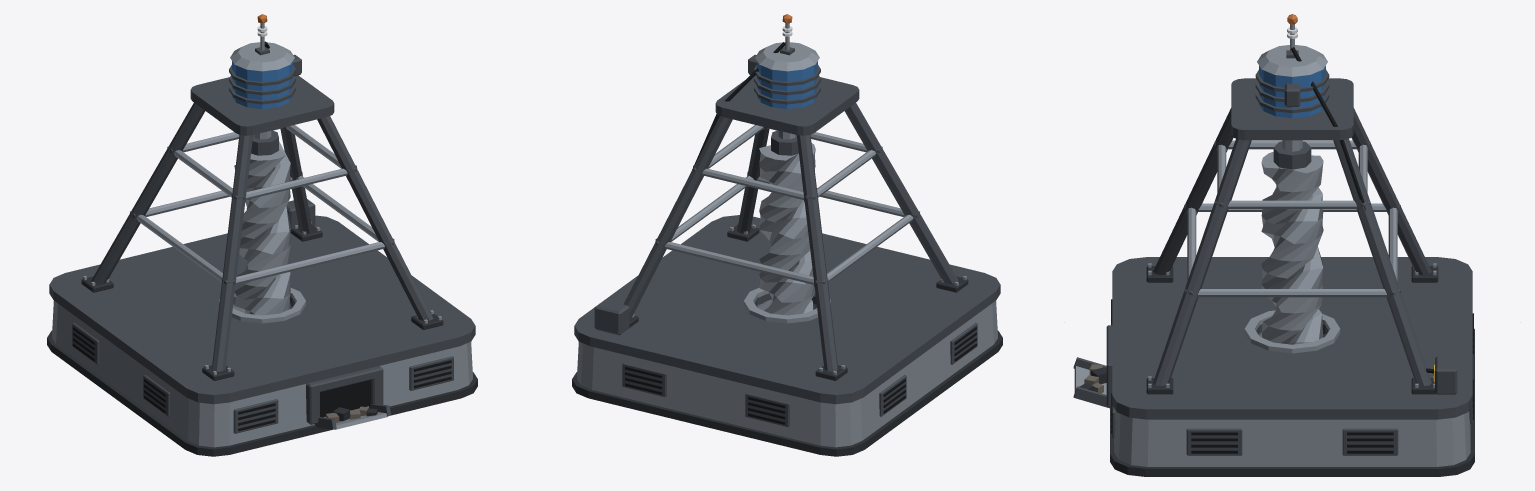
The model's file is foreuse_electrique_t2.glb.
3 renders of one model, left to right at view 1: azimuth 30°, elevation 25°; view 2: azimuth 150°, elevation 25°; view 3: azimuth 270°, elevation 25°, orthographic. The views are drawn at different scales.
Visible parts, largest first — view 1: socle_dessus.004, pieces_acier_sombre.008, socle.004, foret_corps.006, pieces_acier.008, plateau.004, socle_plinthe.002, pieces_noir.008, moteur.004, pieces_fonte.007, moteur_chapeau.002, sortie_bouche.006 (+1 smaller); view 2: socle_dessus.004, socle.004, pieces_acier_sombre.008, foret_corps.006, pieces_acier.008, socle_plinthe.002, plateau.004, pieces_noir.008, moteur.004, moteur_chapeau.002, boitier.002, pieces_fonte.007 (+1 smaller); view 3: socle_dessus.004, pieces_acier_sombre.008, socle.004, foret_corps.006, pieces_acier.008, plateau.004, socle_plinthe.002, pieces_noir.008, moteur.004, moteur_chapeau.002, pieces_fonte.007, trou_bord.004 (+2 smaller).
Part boxes in pixels (box(x1,y1,x2,y2)): socle_dessus.004: box(49, 215, 475, 404); pieces_acier_sombre.008: box(72, 47, 453, 433); socle.004: box(52, 301, 472, 447); foret_corps.006: box(234, 141, 290, 315); pieces_acier.008: box(83, 23, 441, 429); plateau.004: box(190, 75, 334, 135); socle_plinthe.002: box(47, 330, 477, 456); pieces_noir.008: box(73, 41, 451, 430); moteur.004: box(232, 61, 292, 108); pieces_fonte.007: box(81, 224, 443, 421); moteur_chapeau.002: box(230, 42, 294, 71); sortie_bouche.006: box(320, 380, 370, 417); socle_dessus.004: box(574, 215, 1000, 404); socle.004: box(577, 299, 997, 447); pieces_acier_sombre.008: box(622, 46, 977, 427); foret_corps.006: box(759, 143, 815, 315); pieces_acier.008: box(632, 23, 966, 375); socle_plinthe.002: box(572, 330, 1002, 456); plateau.004: box(715, 76, 859, 135); pieces_noir.008: box(625, 42, 976, 424); moteur.004: box(757, 61, 817, 108); moteur_chapeau.002: box(755, 42, 819, 71); boitier.002: box(594, 300, 629, 335); pieces_fonte.007: box(627, 224, 968, 380); socle_dessus.004: box(1112, 257, 1472, 419); pieces_acier_sombre.008: box(1073, 50, 1472, 455); socle.004: box(1114, 332, 1470, 466); foret_corps.006: box(1261, 151, 1323, 344); pieces_acier.008: box(1074, 24, 1436, 394); plateau.004: box(1231, 78, 1353, 140); socle_plinthe.002: box(1110, 328, 1474, 476); pieces_noir.008: box(1111, 47, 1473, 453); moteur.004: box(1259, 66, 1325, 118); moteur_chapeau.002: box(1257, 45, 1327, 76); pieces_fonte.007: box(1079, 266, 1438, 394); trou_bord.004: box(1244, 310, 1340, 353).
Bounding box in the file's own units: 2 × 2.33 × 2.5.
